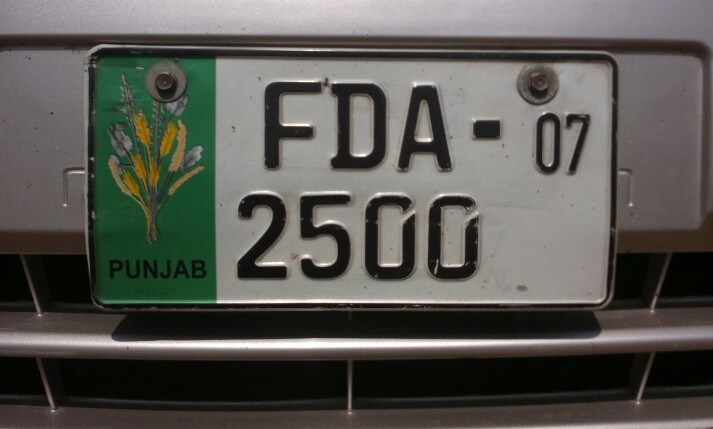license plate: (88, 37, 617, 312)
